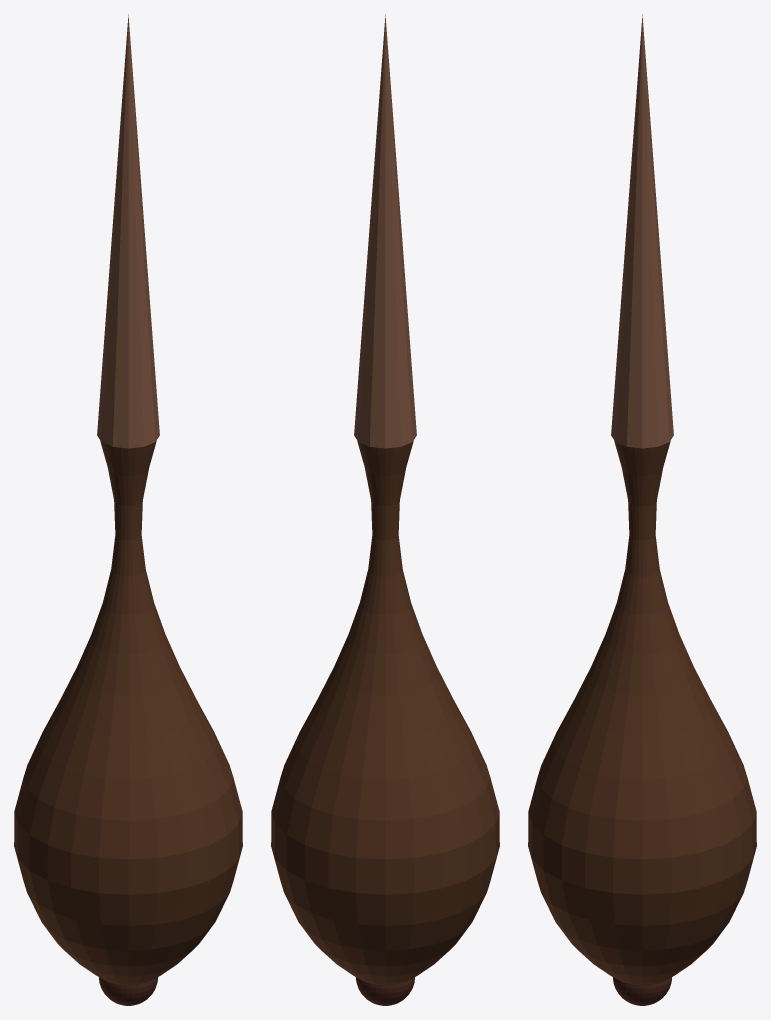
Rendered from Wand 923.glb.
The picture shows the model from 3 angles, left to right: view 1: azimuth 30°, elevation 25°; view 2: azimuth 150°, elevation 25°; view 3: azimuth 270°, elevation 25°; orthographic projection.
Visible parts, largest first — view 1: GeneratedWand; view 2: GeneratedWand; view 3: GeneratedWand.
Part boxes in pixels (bbox=[...]): GeneratedWand: bbox=[14, 14, 242, 1005]; GeneratedWand: bbox=[271, 14, 499, 1005]; GeneratedWand: bbox=[528, 14, 756, 1005].
Size of the model in its own units: 0.1026 by 0.4895 by 0.1026.
